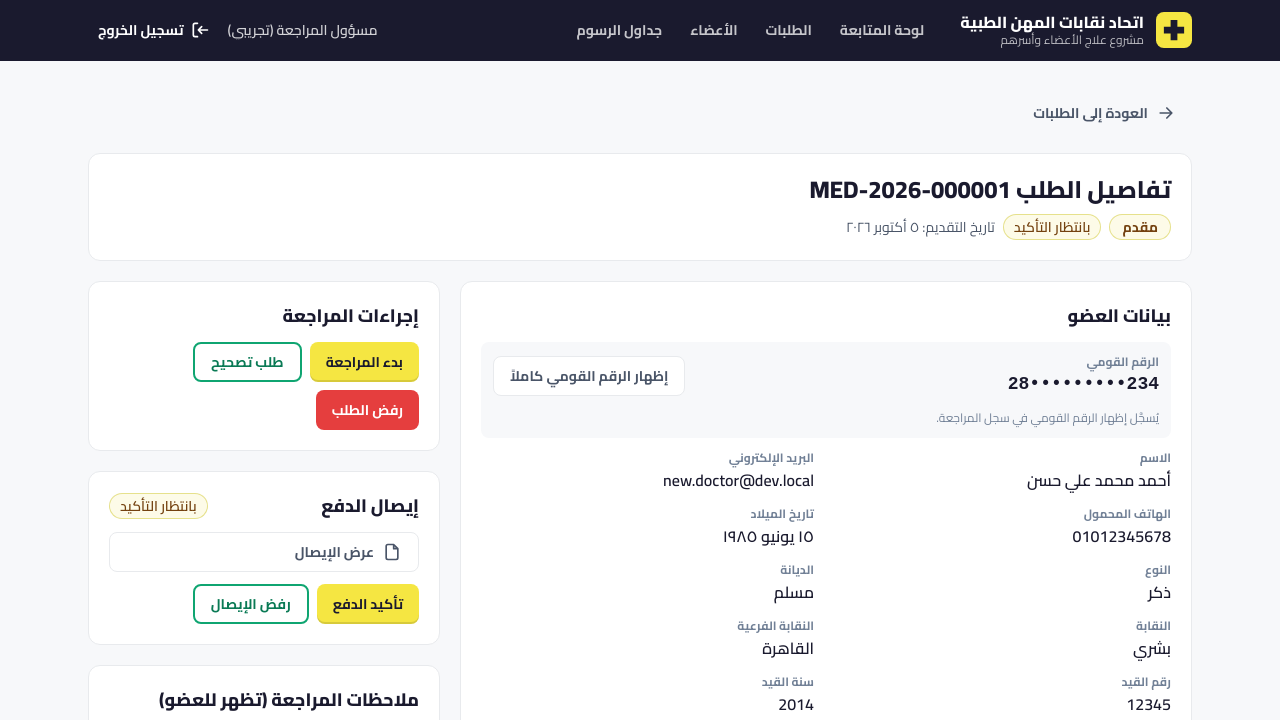
Test: AdminApplicationDetailPage (PROMPT.md §44) › reveals the full national ID through the audited endpoint
Expected: the heading "تفاصيل الطلب MED-2026-000001" is shown, [810, 174, 1171, 206]
Expected: the text "يُسجَّل إظهار الرقم القومي في سجل المراجعة." is shown, [936, 406, 1159, 429]
Step 1. Click the button "إظهار الرقم القومي كاملاً" → (589, 376), box [493, 356, 685, 396]
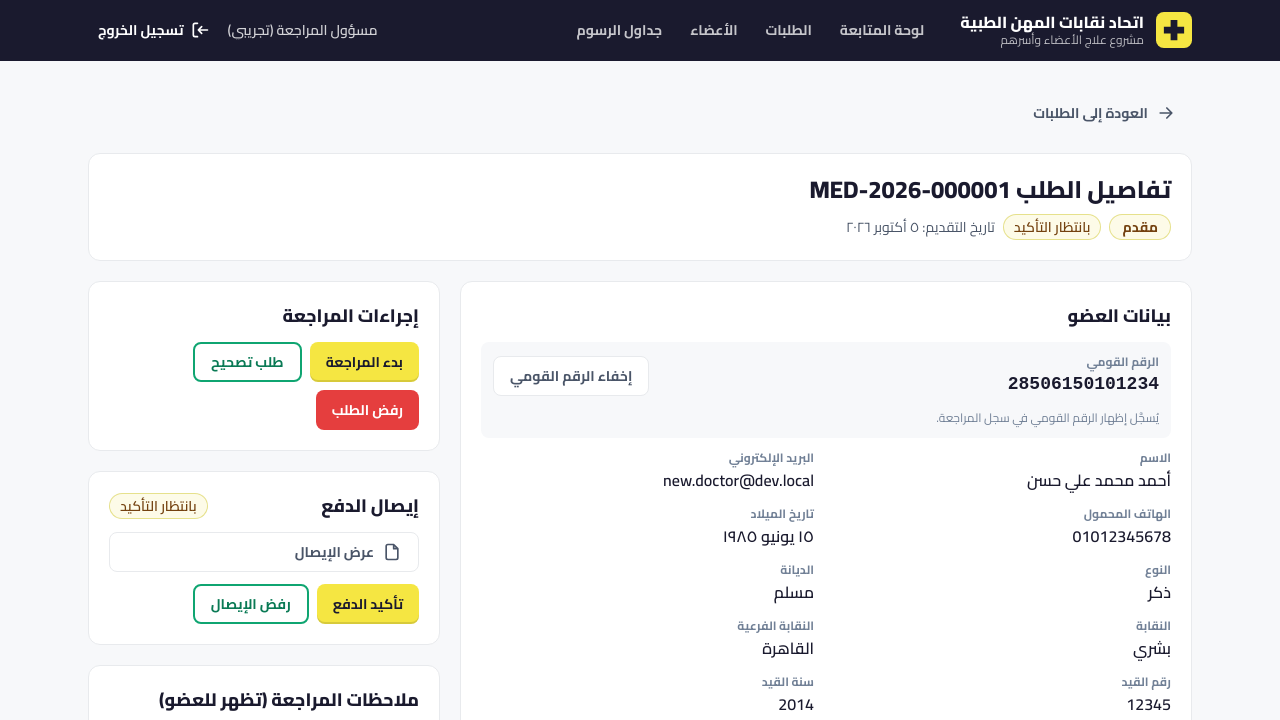
Now the text "28506150101234" is shown, box [1008, 374, 1159, 394]
Step 2. Click the button "إخفاء الرقم القومي" → (571, 376), box [493, 356, 649, 396]
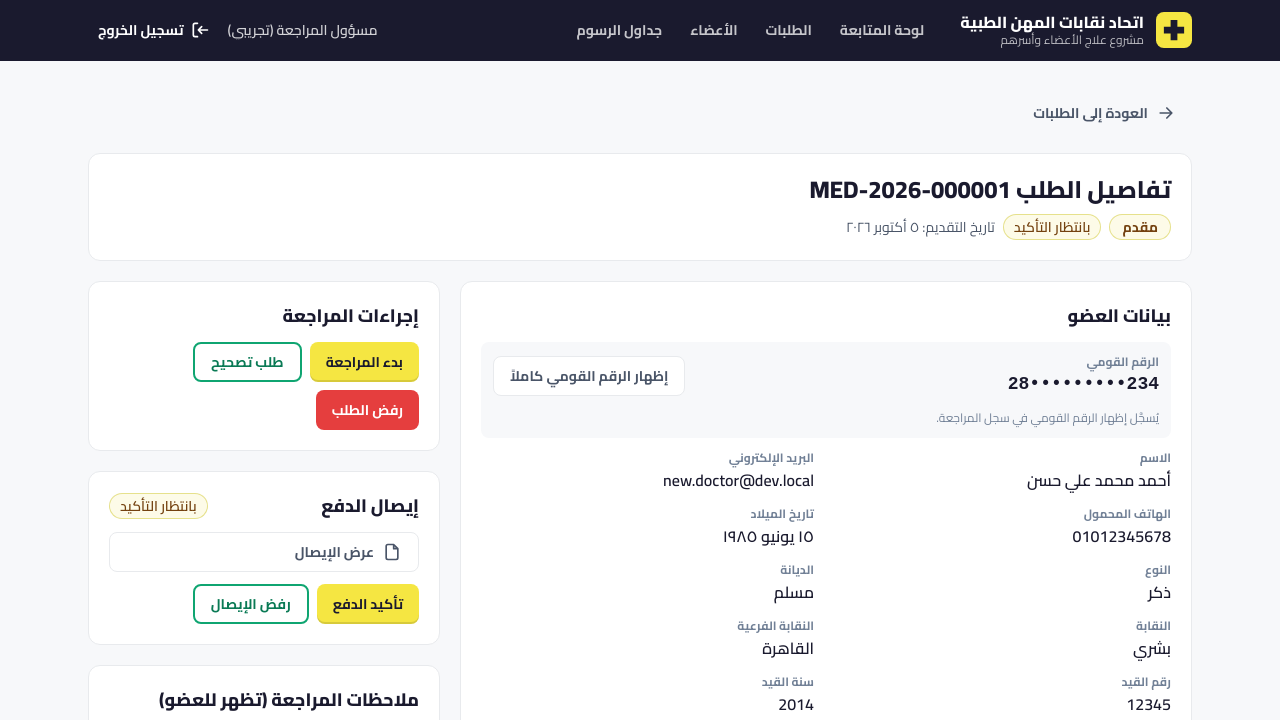
Now the text "28•••••••••234" is shown, box [1008, 374, 1159, 394]
Now the text "28506150101234" is gone
